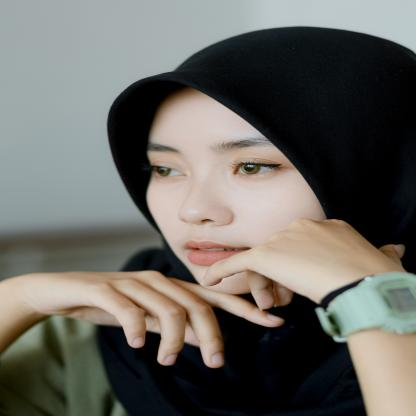Eye: (232, 155, 286, 182), (149, 158, 189, 184)
Mouth: (183, 235, 256, 268)
Nose: (175, 182, 233, 225)
